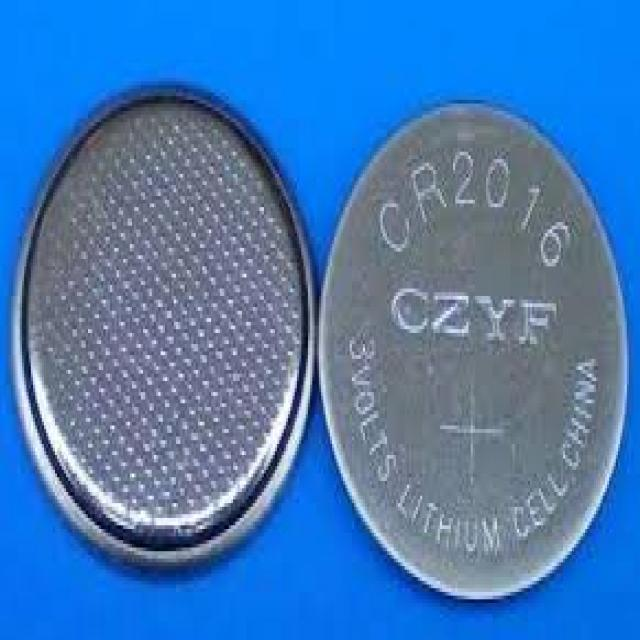Metal: (318, 90, 632, 609), (8, 79, 318, 585)
